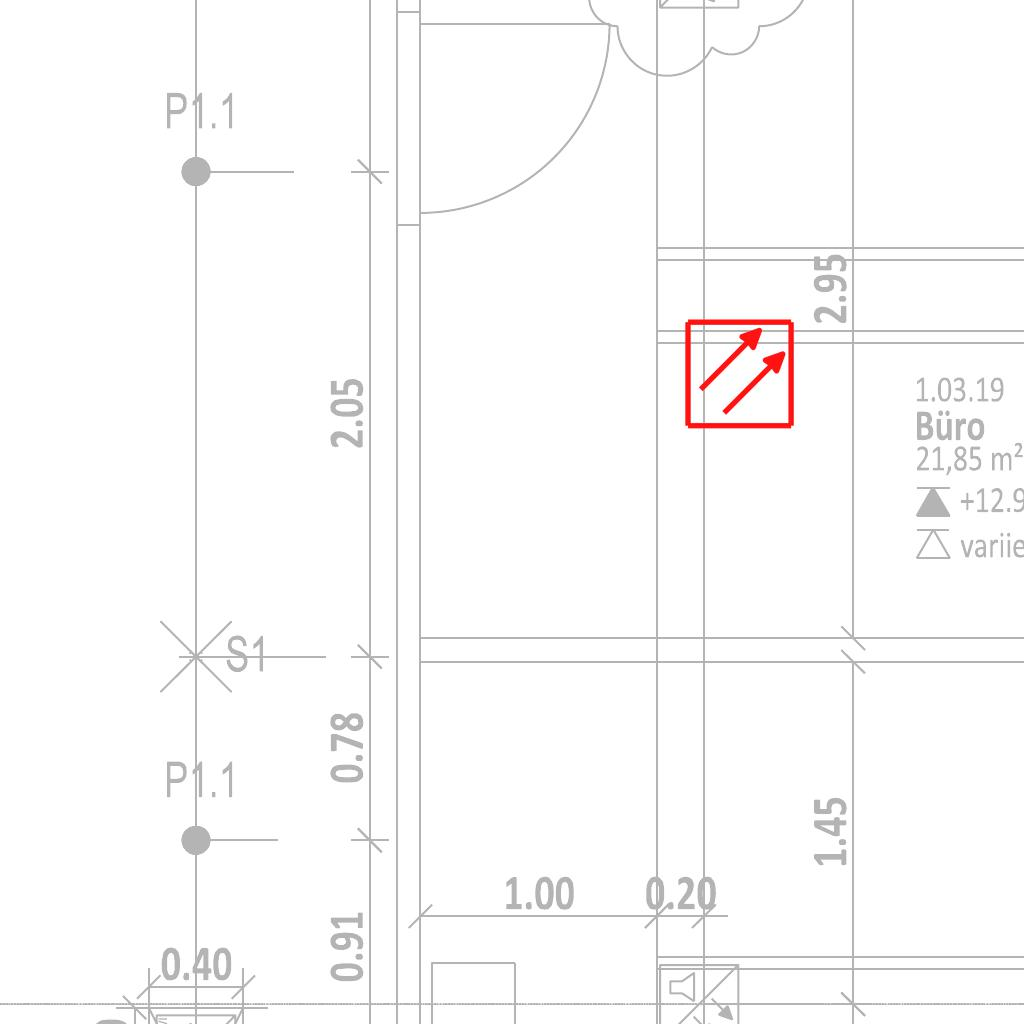RMO_Rauchmelder_optischer: (683, 317, 796, 430)
